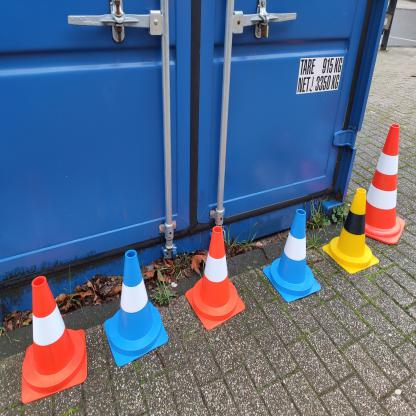Cones_big: (364, 108, 404, 262)
Cones_small_blue: (96, 238, 184, 364), (261, 208, 339, 308)
Cones_small_orange: (16, 274, 93, 391), (184, 224, 253, 325)
Cones_small_yellow: (324, 185, 386, 277)
